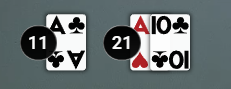10: (150, 12, 172, 38)
a: (43, 12, 69, 39), (128, 13, 151, 36)
